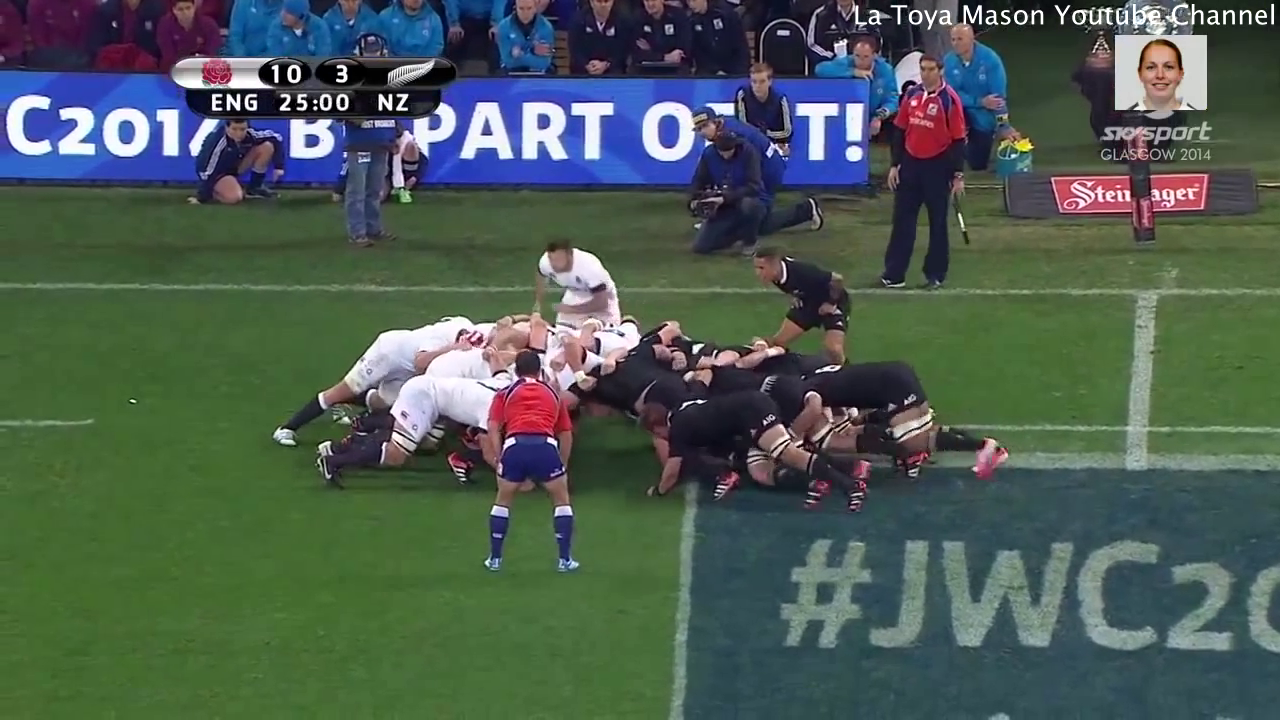player: (261, 309, 471, 456), (789, 351, 1026, 478), (638, 389, 873, 514), (466, 345, 589, 580), (301, 361, 514, 494), (550, 341, 724, 432), (742, 246, 856, 368), (526, 232, 631, 328)
scrum: (264, 308, 1017, 519)
